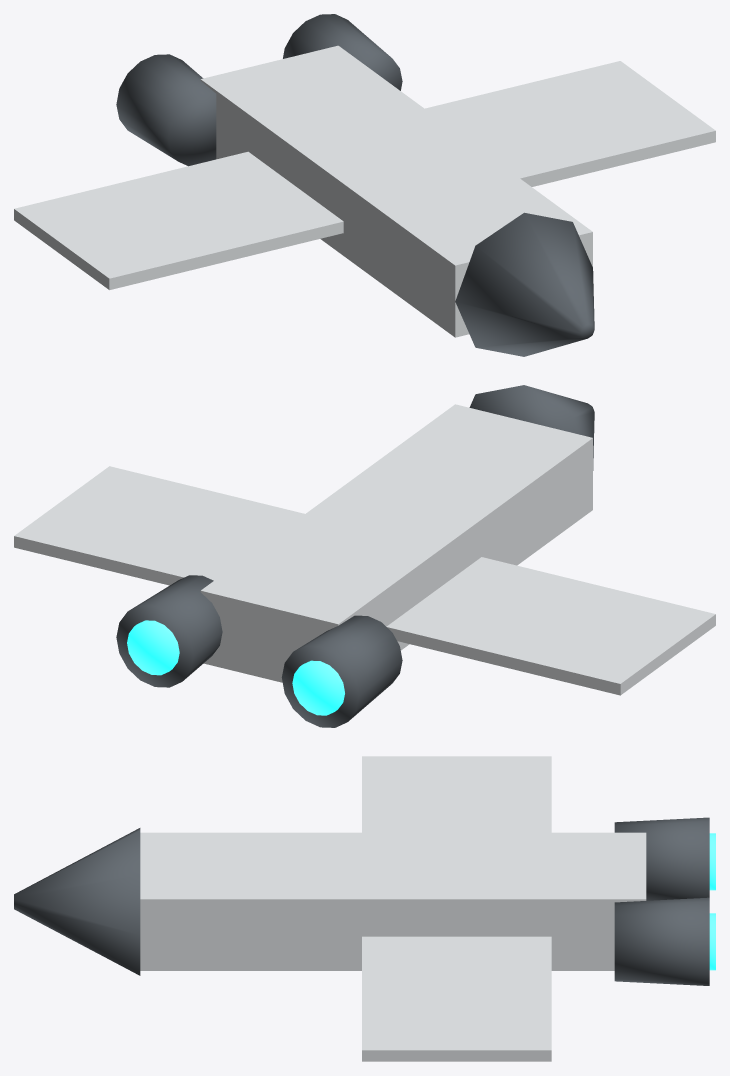
Rendered from 19666dc3-c41b-4cee-af1b-a021a6809a17.glb.
3 renders of one model, top to bottom at view 1: azimuth 30°, elevation 25°; view 2: azimuth 150°, elevation 25°; view 3: azimuth 270°, elevation 25°, orthographic.
Visible parts, largest first — view 1: Generated3DMesh; view 2: Generated3DMesh; view 3: Generated3DMesh.
Part boxes in pixels (left/top/right/bottom): Generated3DMesh: left=14, top=14, right=715, bottom=356; Generated3DMesh: left=14, top=385, right=715, bottom=727; Generated3DMesh: left=14, top=756, right=715, bottom=1061.
Bounding box in the file's own units: 4.4 × 1 × 4.44.
